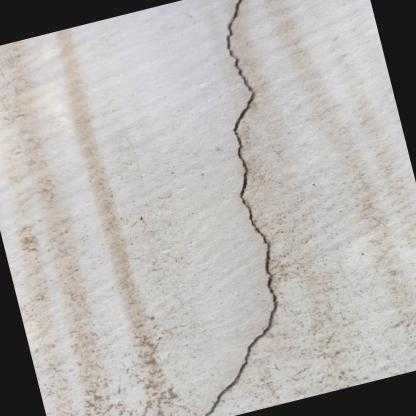crack: (200, 0, 282, 416)
